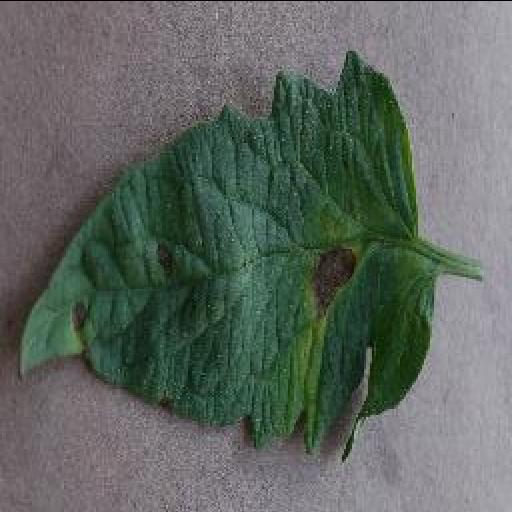Early Blight: (14, 48, 434, 454)
